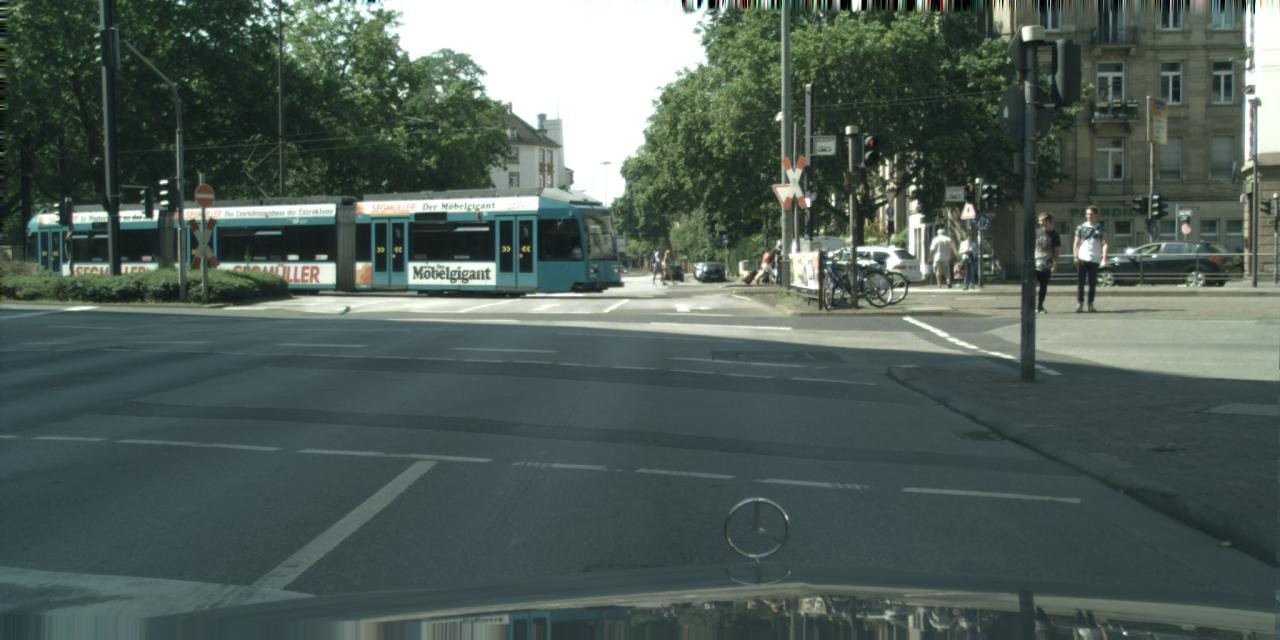ped: (1066, 205, 1108, 312), (1020, 210, 1060, 312), (929, 228, 954, 288), (957, 232, 981, 290), (769, 243, 784, 283), (758, 247, 774, 284), (652, 247, 666, 284), (661, 249, 675, 284)
